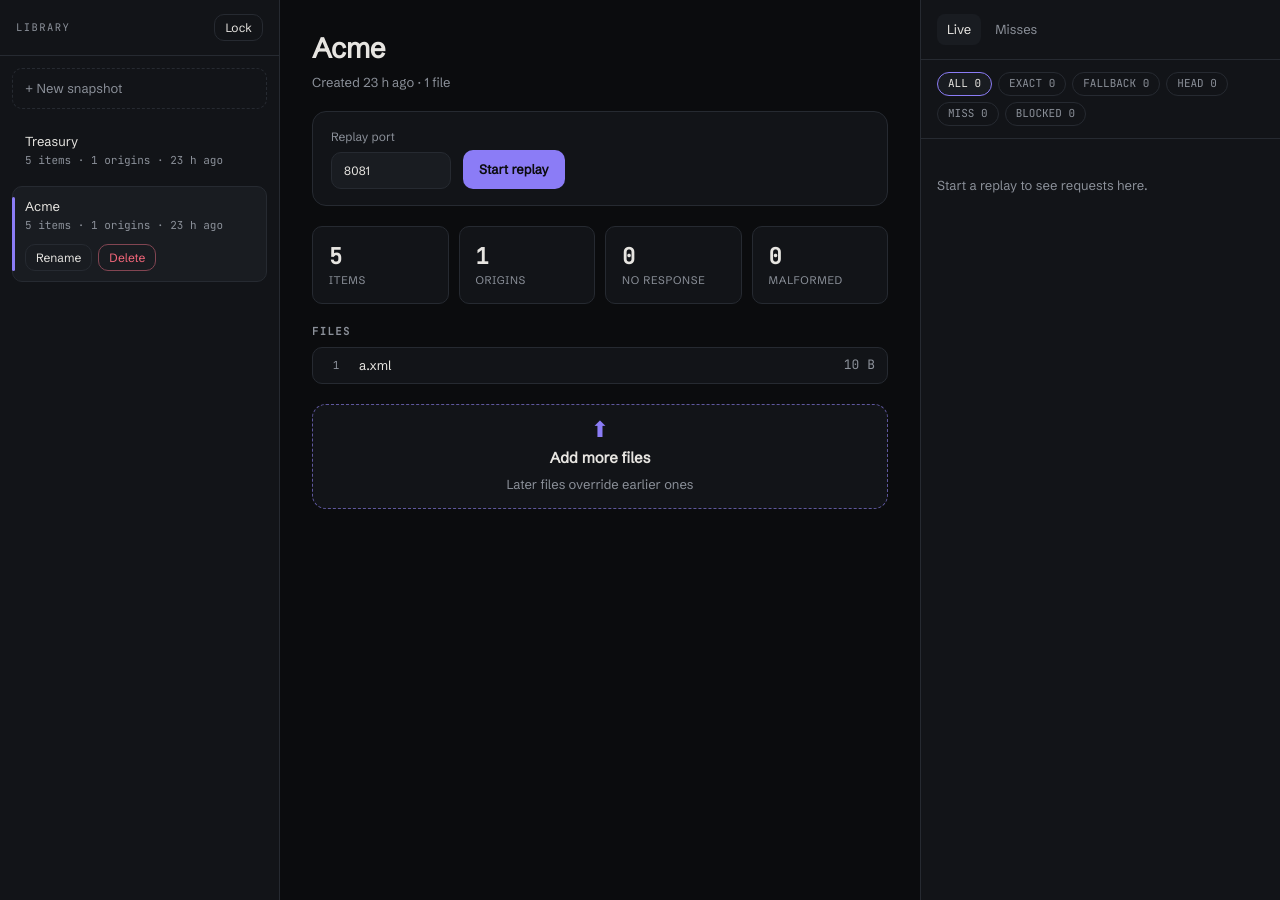
it: a failed start is shown as a toast and the button comes back
The image size is (1280, 900).
Step 1. Click the button "Start replay" → (514, 170), box x1=463 y1=150 x2=565 y2=189
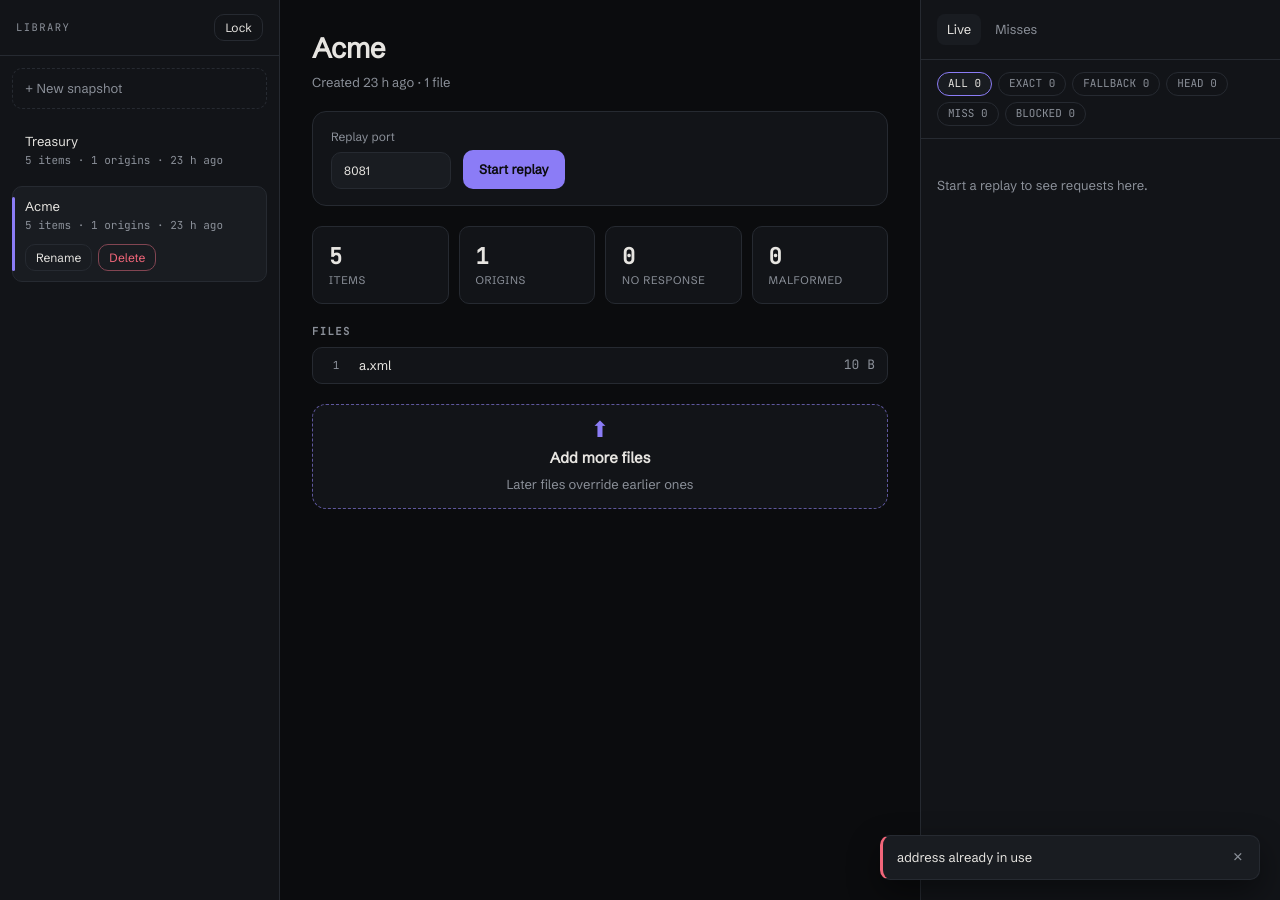
expect the message shows "address already in use": met, box x1=897 y1=849 x2=1032 y2=865
